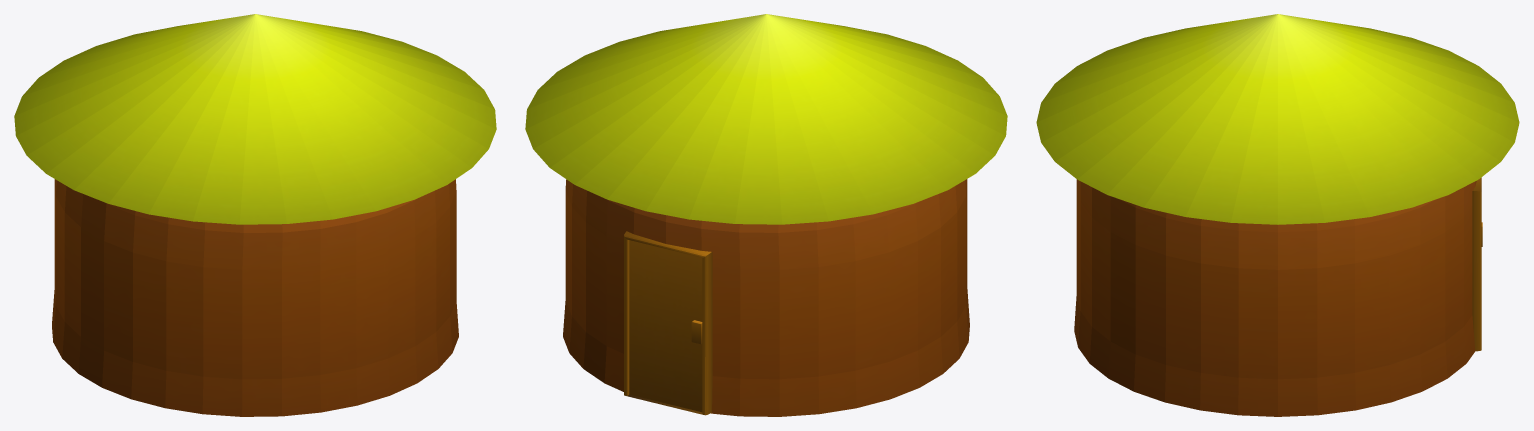
The model's file is Elf_House_1.fbx.
3 renders of one model, left to right at view 1: azimuth 30°, elevation 25°; view 2: azimuth 150°, elevation 25°; view 3: azimuth 270°, elevation 25°, orthographic.
Visible parts, largest first — view 1: techo de paja .001, Cylinder; view 2: techo de paja .001, Cylinder, puerta.005; view 3: techo de paja .001, Cylinder, puerta.005.
Part boxes in pixels (bbox=[...]): techo de paja .001: bbox=[14, 14, 496, 224]; Cylinder: bbox=[52, 179, 458, 416]; techo de paja .001: bbox=[525, 14, 1007, 224]; Cylinder: bbox=[563, 179, 969, 416]; puerta.005: bbox=[624, 231, 712, 415]; techo de paja .001: bbox=[1036, 14, 1519, 224]; Cylinder: bbox=[1074, 179, 1476, 416]; puerta.005: bbox=[1472, 177, 1482, 351].
Bounding box in the file's own units: 6 × 4.34 × 6.
